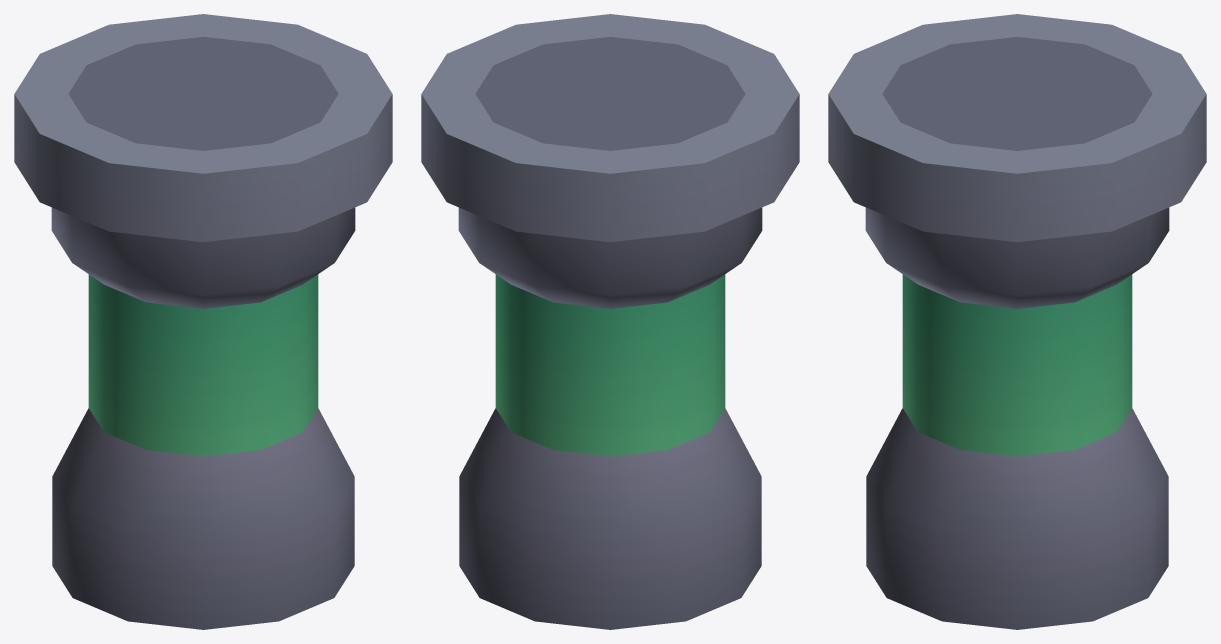
File: column.glb
The picture shows the model from 3 angles, left to right: view 1: azimuth 30°, elevation 25°; view 2: azimuth 150°, elevation 25°; view 3: azimuth 270°, elevation 25°; orthographic projection.
Parts seen in each view (by area): view 1: column; view 2: column; view 3: column.
Part boxes in pixels (bbox=[...]): column: bbox=[14, 14, 392, 629]; column: bbox=[421, 14, 799, 629]; column: bbox=[828, 14, 1206, 629].
Size of the model in its own units: 0.7258 by 1 by 0.7258.
1 material, 1 textured.
